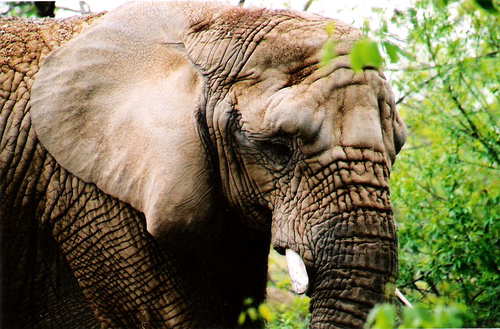elephant: (1, 1, 409, 329)
